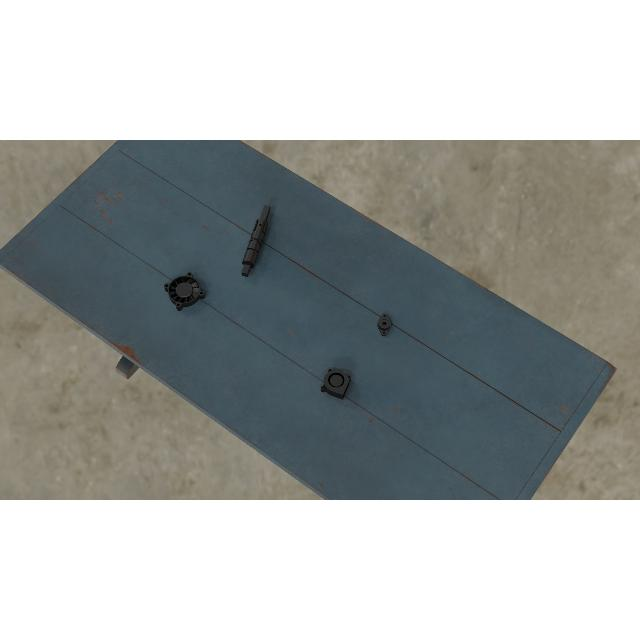Pieza1: (238, 202, 274, 280)
Pieza2: (376, 312, 392, 336)
Pieza3: (320, 366, 352, 400)
Pieza4: (162, 271, 206, 313)
